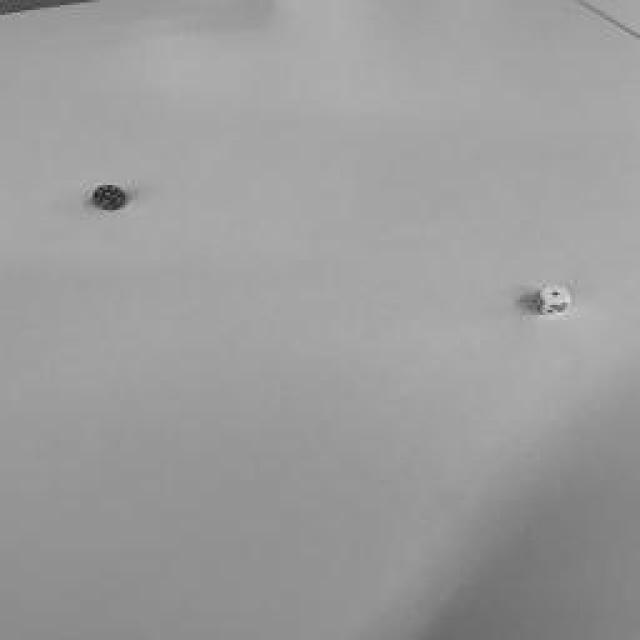dice_1: (540, 288, 570, 302)
dice_4: (95, 186, 120, 199)
